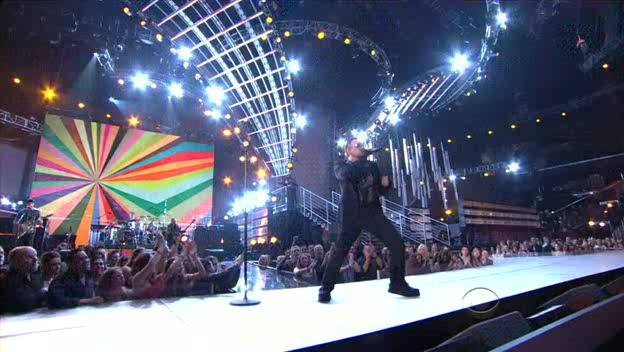person: (331, 137, 395, 252), (328, 137, 392, 252), (334, 137, 398, 252), (331, 134, 395, 249), (331, 140, 395, 255)
target_negative: (202, 118, 548, 303), (322, 162, 534, 215), (454, 264, 615, 288), (396, 55, 442, 134), (97, 93, 170, 113), (326, 323, 342, 345)
